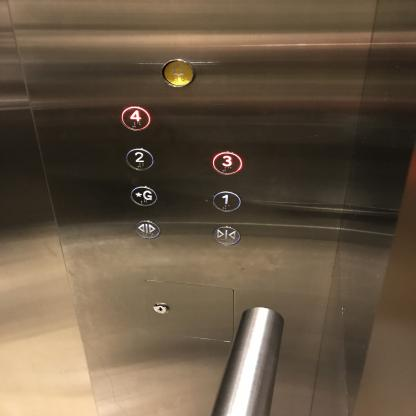1: (210, 189, 242, 213)
2: (123, 146, 156, 172)
3: (209, 149, 244, 176)
4: (118, 104, 152, 132)
alarm: (158, 57, 198, 88)
close: (211, 224, 242, 247)
open: (132, 219, 162, 240)
sG: (128, 184, 159, 207)
